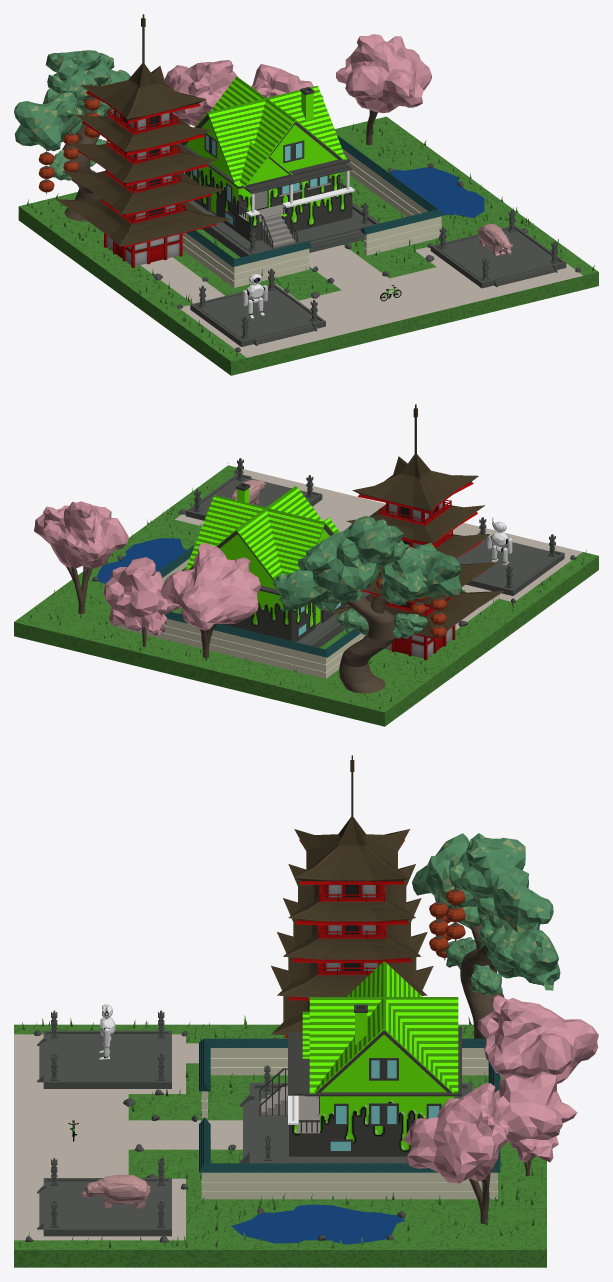
3 views of the same model, one above another, from view 1: azimuth 30°, elevation 25°; view 2: azimuth 150°, elevation 25°; view 3: azimuth 270°, elevation 25° (orthographic). The views are drawn at different scales.
Parts seen in each view (by area): view 1: Cube.005, Cube.754, ANIMAL_HIPOPOTAMO, OBJRANDOM_PLATZEEBOT; view 2: Cube.005, Cube.754, OBJRANDOM_PLATZEEBOT; view 3: Cube.005, Cube.754, ANIMAL_HIPOPOTAMO.
Boxes of the visible parts, x1,y1,x2,y2 form: Cube.005: (14, 14, 598, 375); Cube.754: (179, 76, 354, 248); ANIMAL_HIPOPOTAMO: (477, 224, 512, 255); OBJRANDOM_PLATZEEBOT: (243, 269, 267, 318); Cube.005: (14, 404, 598, 726); Cube.754: (182, 482, 347, 642); OBJRANDOM_PLATZEEBOT: (487, 517, 512, 565); Cube.005: (14, 755, 598, 1267); Cube.754: (259, 961, 461, 1156); ANIMAL_HIPOPOTAMO: (81, 1174, 150, 1208).
Size of the model in its own units: 4528 by 2791 by 4389.
Materials: 36 (6 with a texture image).
